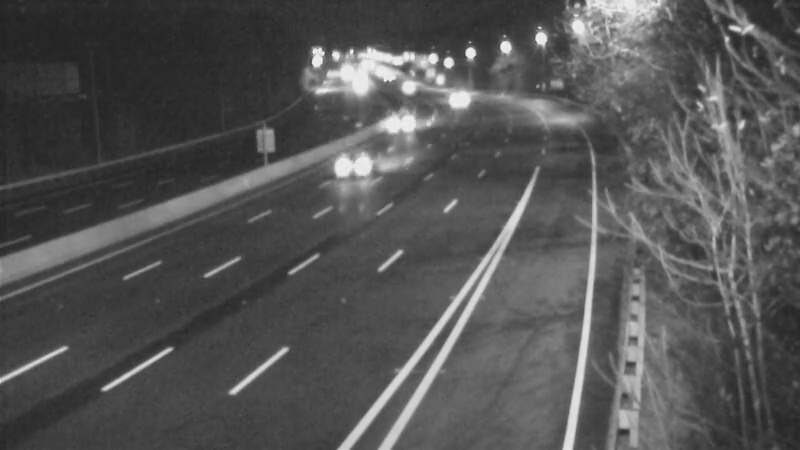vehicle: (316, 121, 396, 201), (380, 64, 430, 114), (425, 74, 475, 124), (380, 92, 430, 142)
